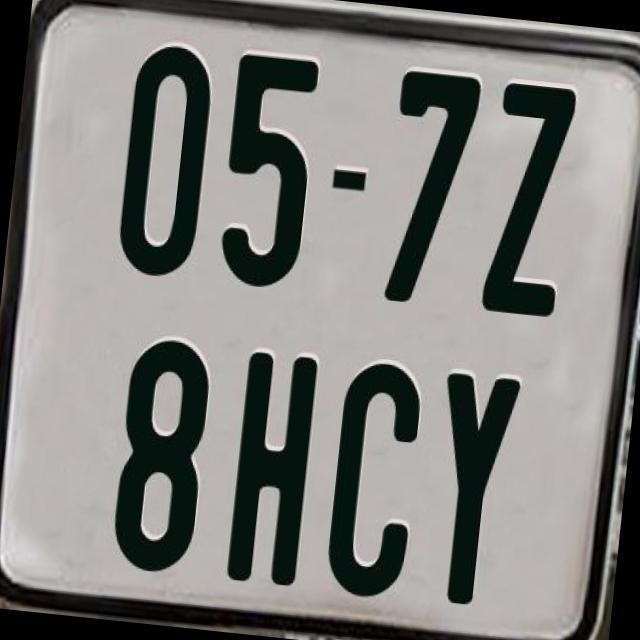0: (111, 39, 218, 282)
5: (215, 49, 326, 296)
7: (374, 65, 480, 306)
8: (108, 332, 212, 576)
C: (320, 356, 422, 596)
H: (224, 346, 324, 586)
Y: (423, 370, 520, 608)
Z: (479, 80, 576, 316)
